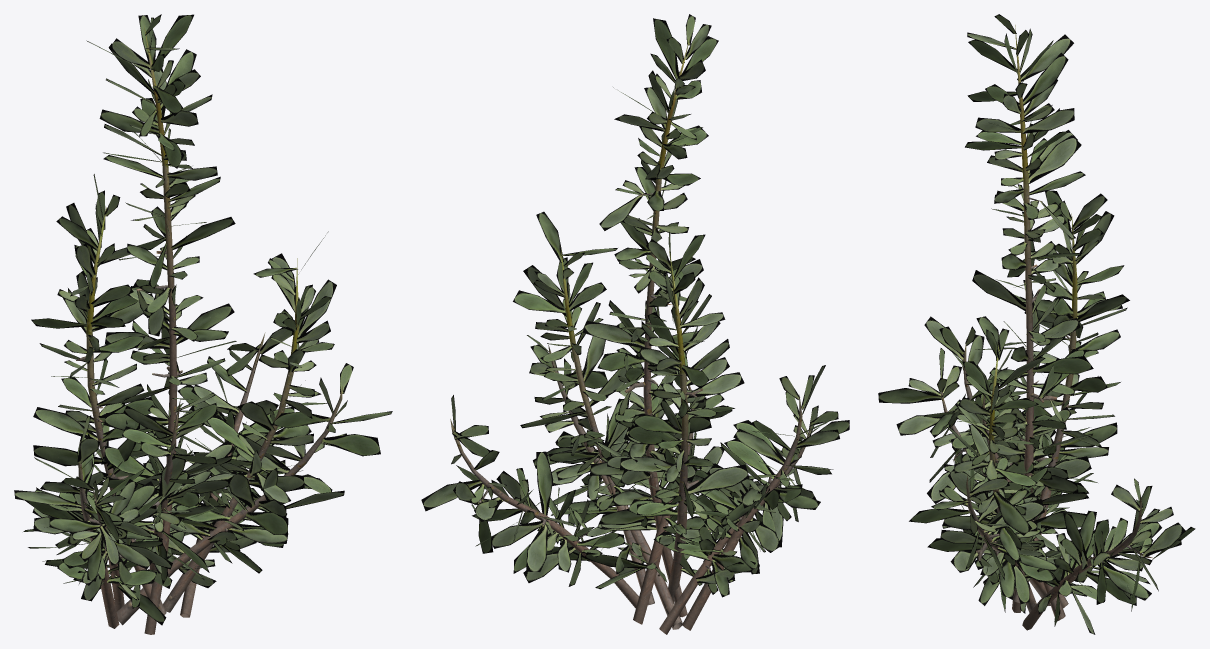
File: othonna.glb
The picture shows the model from 3 angles, left to right: view 1: azimuth 30°, elevation 25°; view 2: azimuth 150°, elevation 25°; view 3: azimuth 270°, elevation 25°; orthographic projection. The views are drawn at different scales.
Visible parts, largest first — view 1: othonna_cerarioides_e; view 2: othonna_cerarioides_e; view 3: othonna_cerarioides_e.
Part boxes in pixels (box(x1,y1,x2,y2)): othonna_cerarioides_e: box(14, 14, 392, 634); othonna_cerarioides_e: box(421, 14, 849, 634); othonna_cerarioides_e: box(878, 14, 1195, 634).
Bounding box in the file's own units: 0.5587 × 0.9585 × 0.4598.
2 materials, 2 textured.
